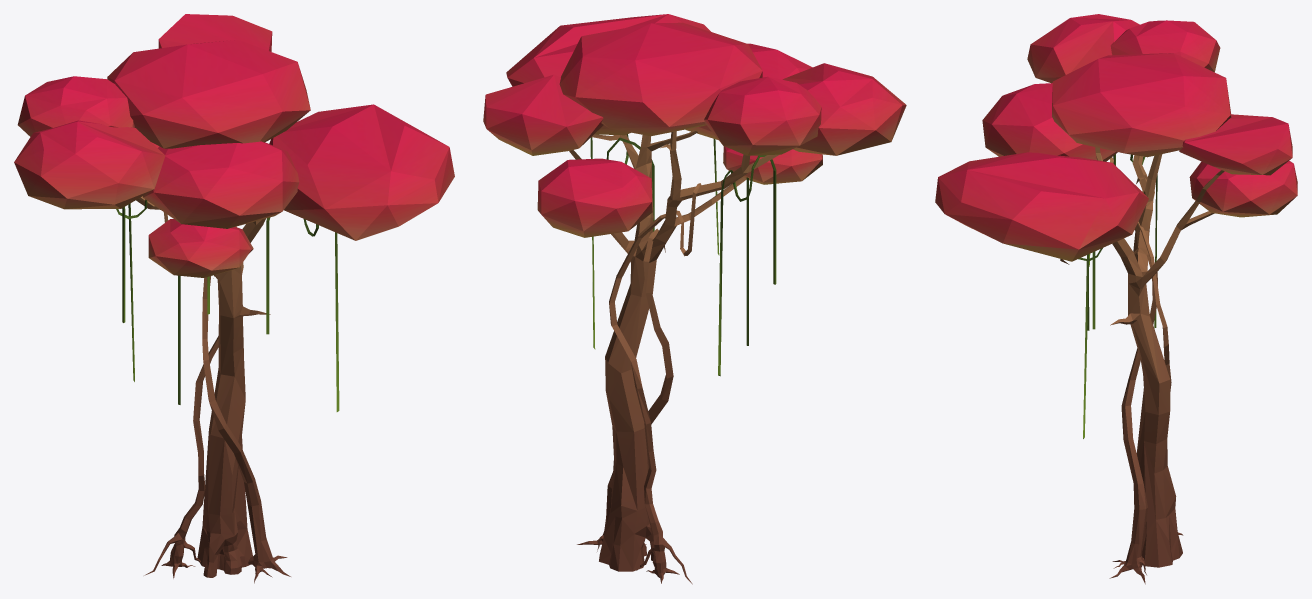
Rendered from ZLP_Plant_A_7.FBX.
3 views of the same model, side by side, from view 1: azimuth 30°, elevation 25°; view 2: azimuth 150°, elevation 25°; view 3: azimuth 270°, elevation 25° (orthographic). The views are drawn at different scales.
Parts seen in each view (by area): view 1: ZLP_Plant_A_7; view 2: ZLP_Plant_A_7; view 3: ZLP_Plant_A_7.
Part boxes in pixels (x1,y1,x2,y2): ZLP_Plant_A_7: (14, 14, 454, 583); ZLP_Plant_A_7: (483, 14, 906, 584); ZLP_Plant_A_7: (935, 14, 1297, 584).
Size of the model in its own units: 814 by 1030 by 712.
